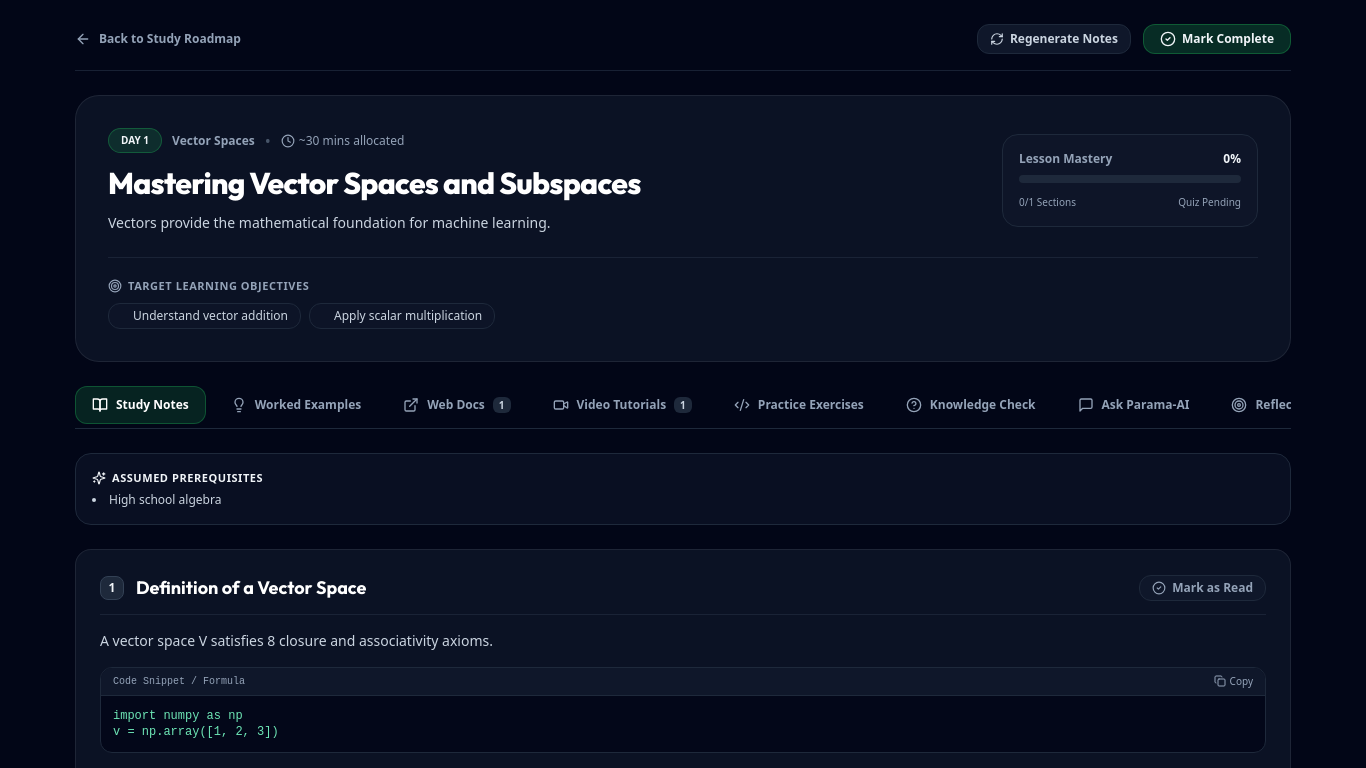
Test: LessonView Component › switches to exercises tab and reveals progressive hints
Expected: the text "Practice Exercises" is shown, [758,396,864,412]
Click the button "Practice Exercises".
click(799, 404)  # box [717,386,881,424]
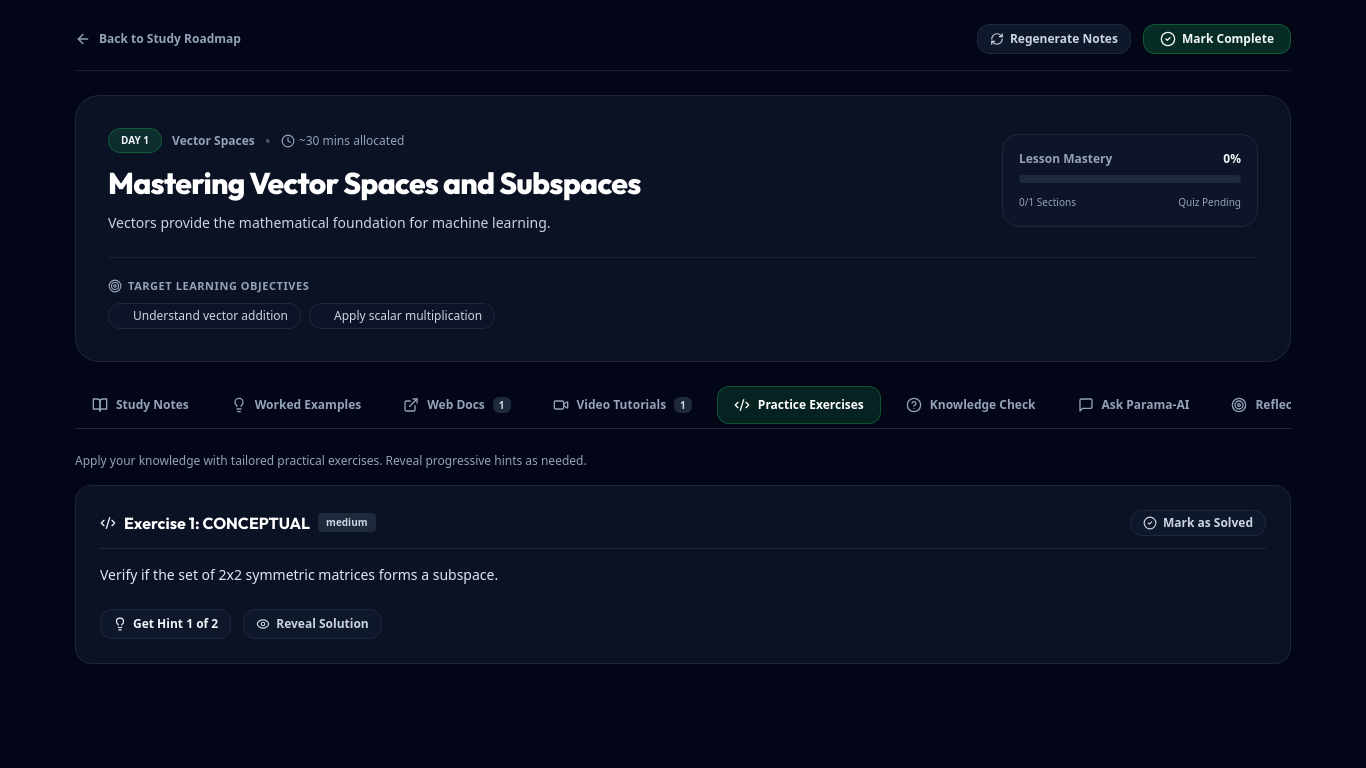
Now the text "Verify if the set of 2x2 symmetric matrices" is shown, box [100,564,498,584]
Now the text "Get Hint 1 of 2" is shown, box [133,616,218,632]
Click the button "Get Hint 1 of 2".
click(166, 624)  # box [100,608,231,638]
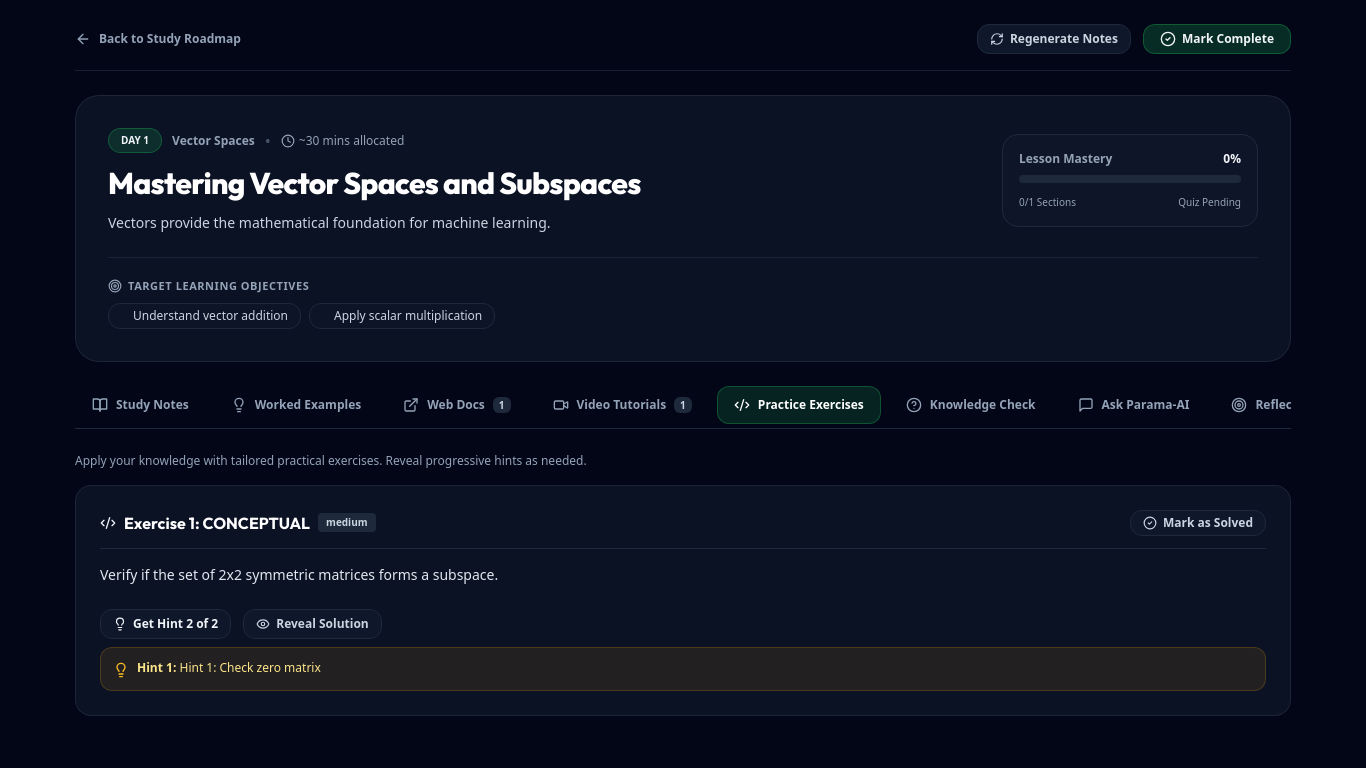
Now the text "Hint 1: Check zero matrix" is shown, box [180,658,321,676]
